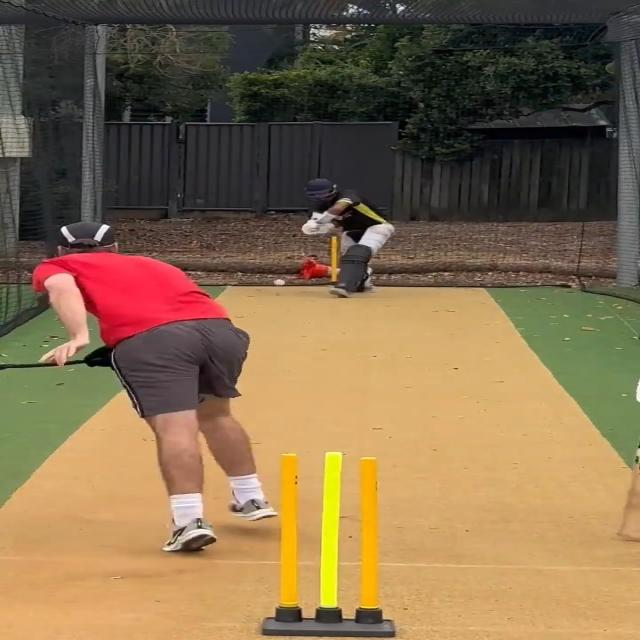ball: (273, 278, 288, 288)
stump: (262, 450, 397, 640)
